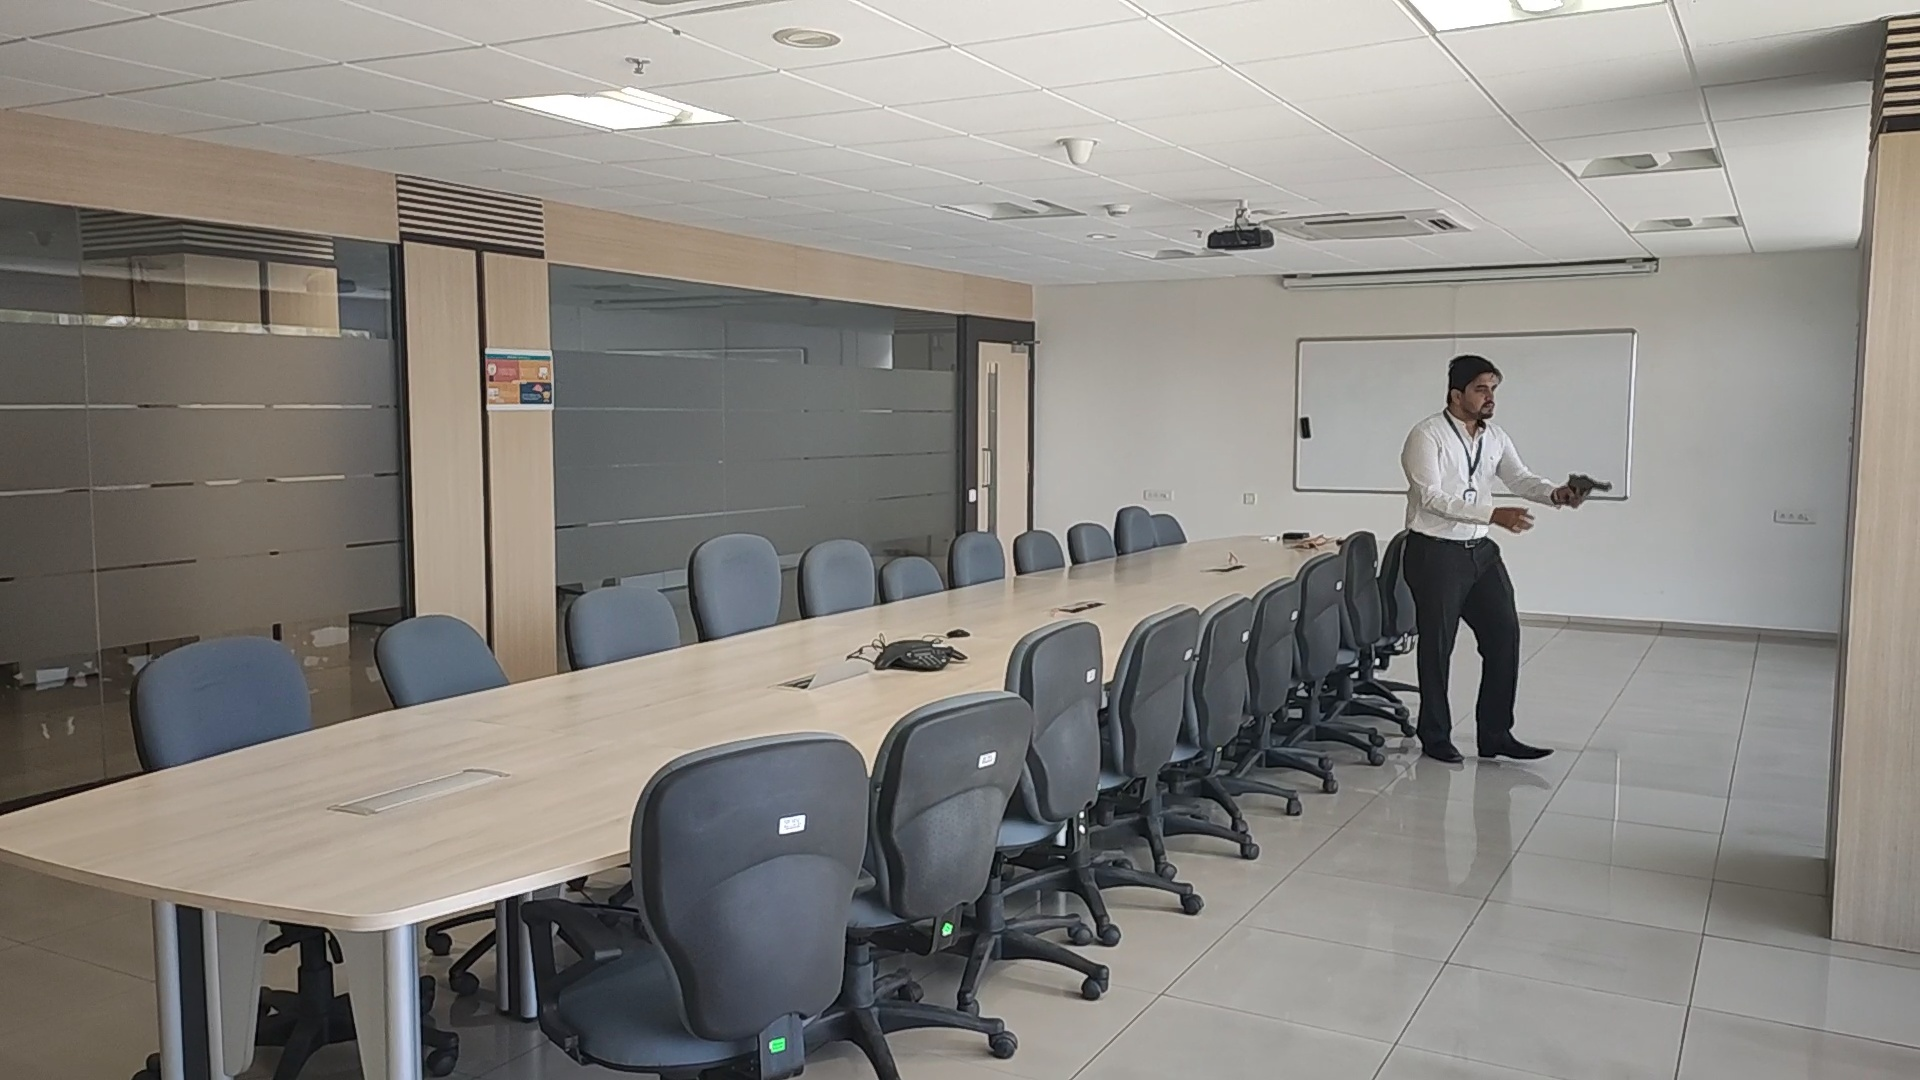knife: (1568, 473, 1611, 496)
